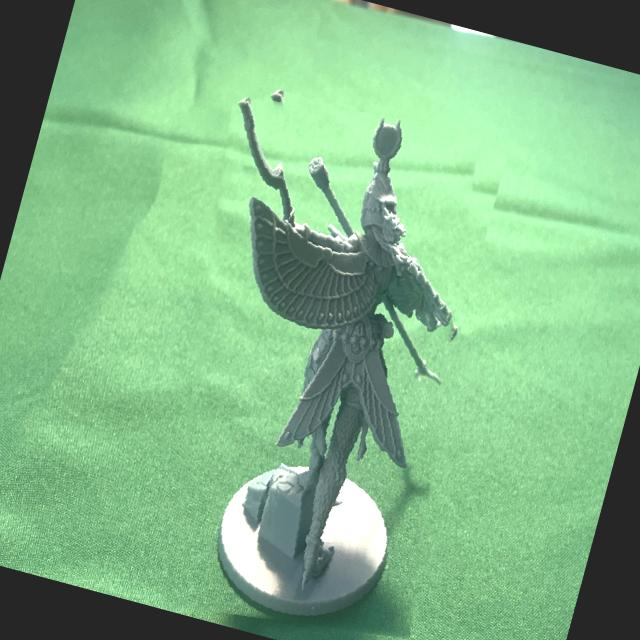isis: (117, 76, 524, 640)
